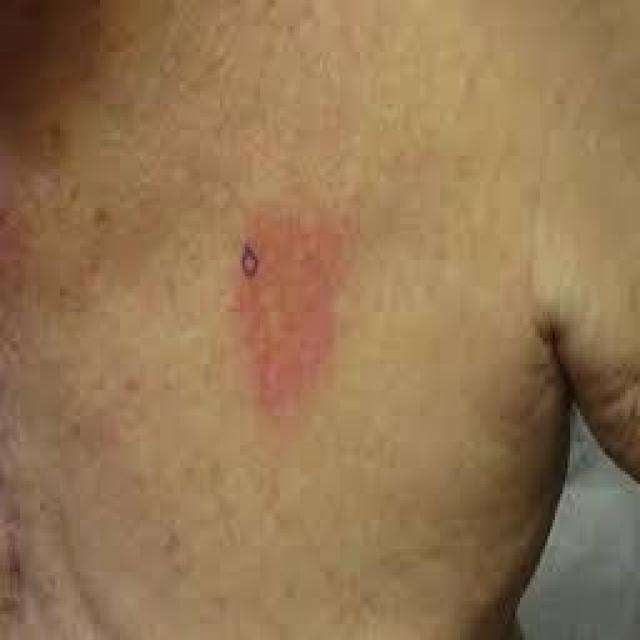kene: (215, 201, 370, 428)
